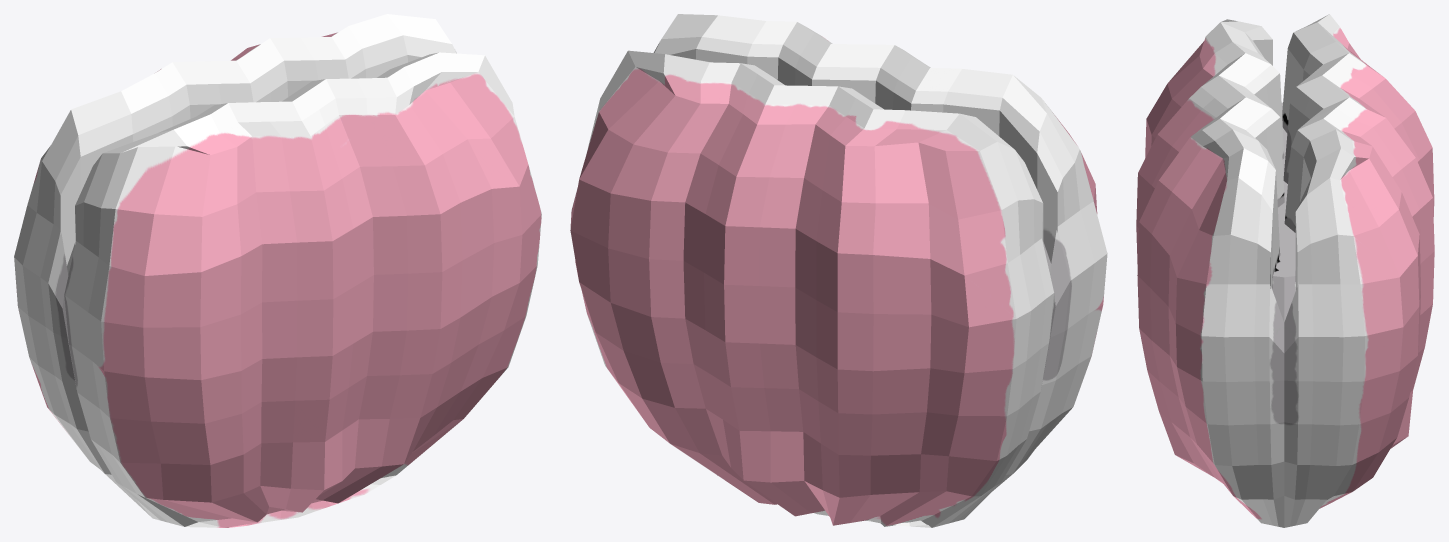
The model's file is shell.fbx.
3 renders of one model, left to right at view 1: azimuth 30°, elevation 25°; view 2: azimuth 150°, elevation 25°; view 3: azimuth 270°, elevation 25°, orthographic. The views are drawn at different scales.
Visible parts, largest first — view 1: node_id4; view 2: node_id4; view 3: node_id4.
Part boxes in pixels (x1,y1,x2,y2): node_id4: [14, 14, 541, 527]; node_id4: [570, 14, 1107, 527]; node_id4: [1136, 14, 1434, 527].
Size of the model in its own units: 0.512 by 0.4887 by 0.3208.
Materials: 1 (1 with a texture image).
